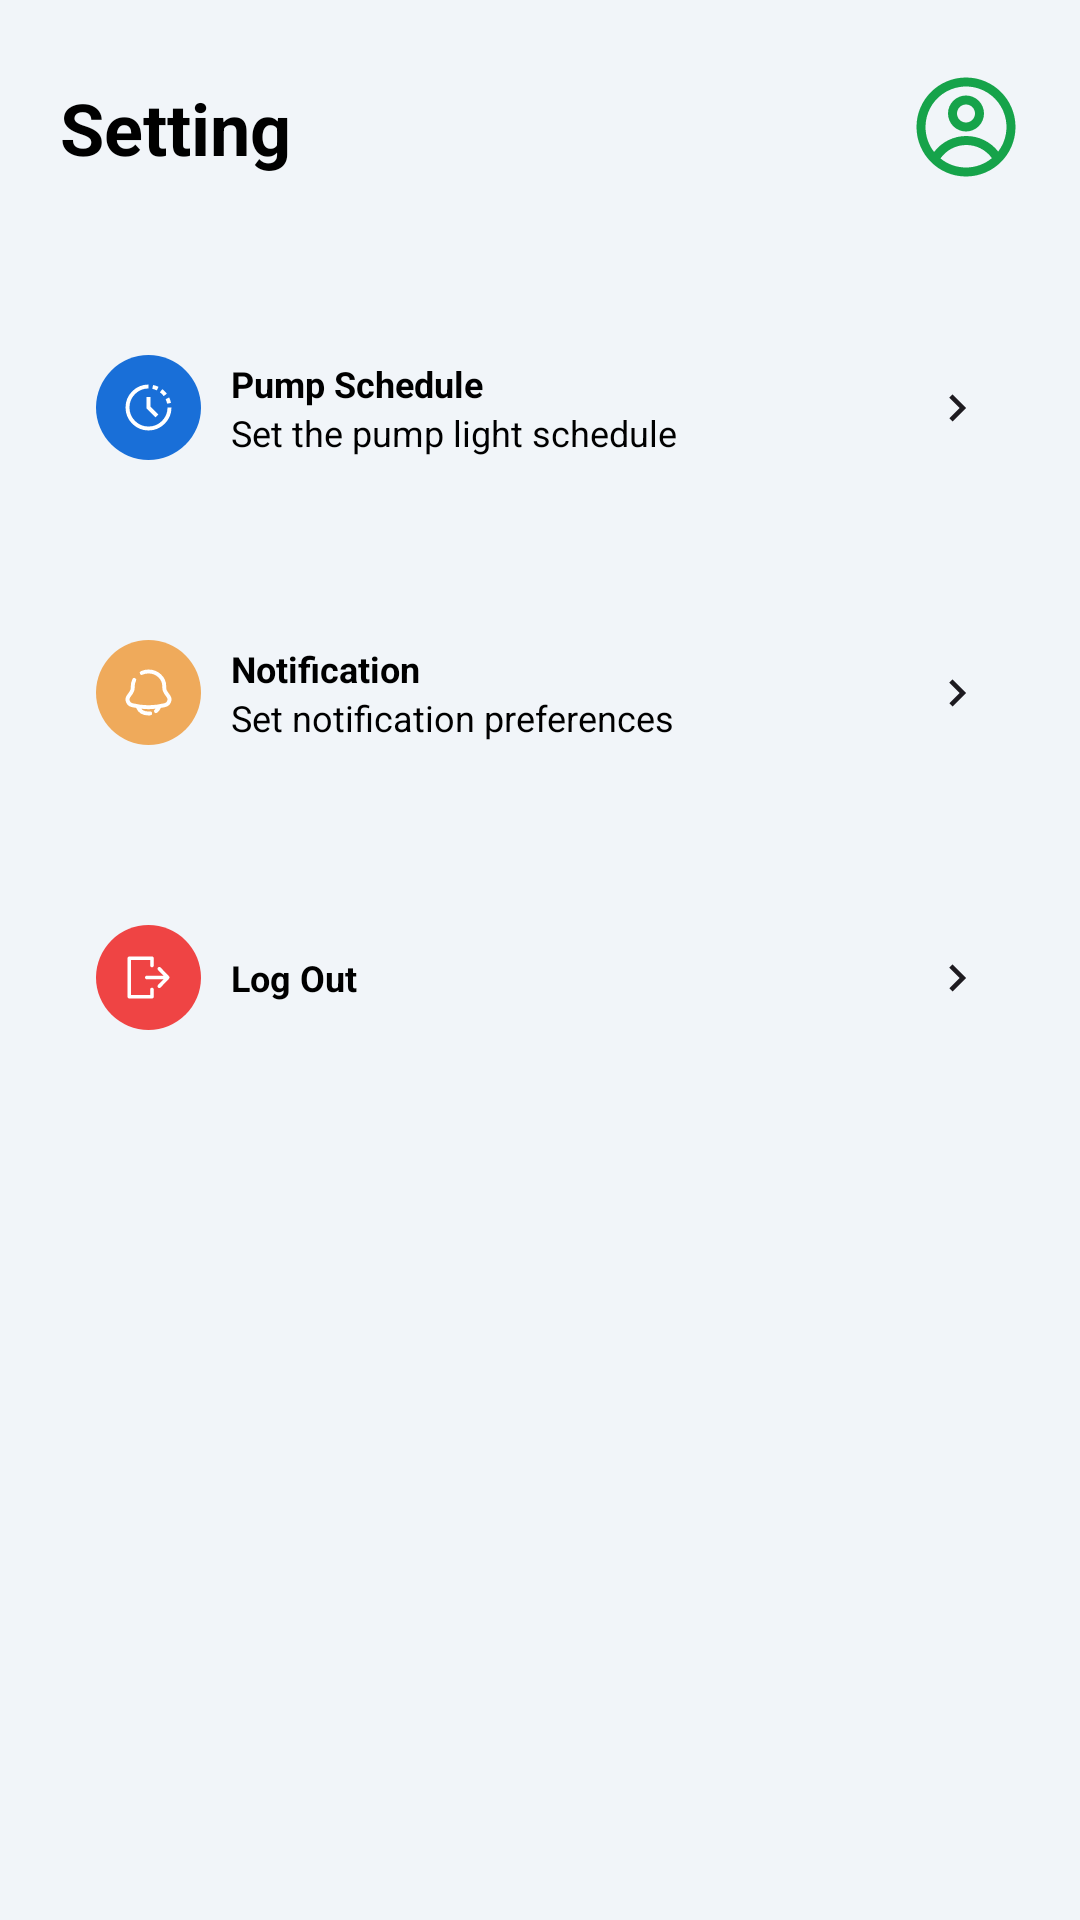

Named icons in this screenshot (1080px x 1920px) and their bounding boxes, (x1, y1, x2, y2):
arroww: (949, 394, 966, 422), (949, 679, 966, 707), (949, 964, 966, 992)
keluar: (96, 925, 201, 1030)
profile: (916, 77, 1016, 177)
time: (96, 355, 201, 460)
